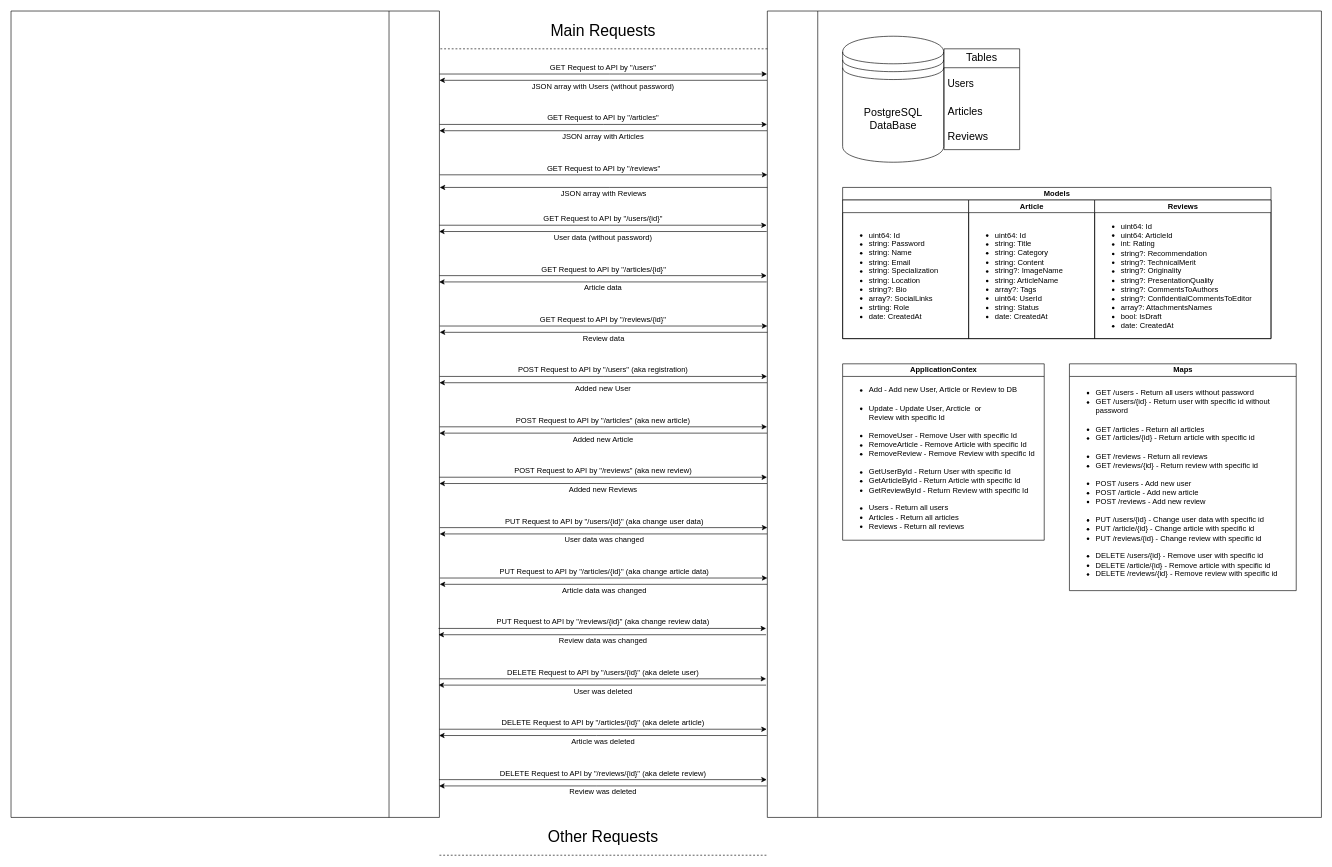
This 1332x867 diagram has some shape labels left out. The shapes that lost their labels are listed below. From the top down, each one's box as (x1, y1, x2, y2) in pixels, then its label:
(842, 199, 969, 339): User
(10, 10, 439, 817): Client (aka Front-End)
(767, 10, 1321, 817): Server (aka Back-End)
